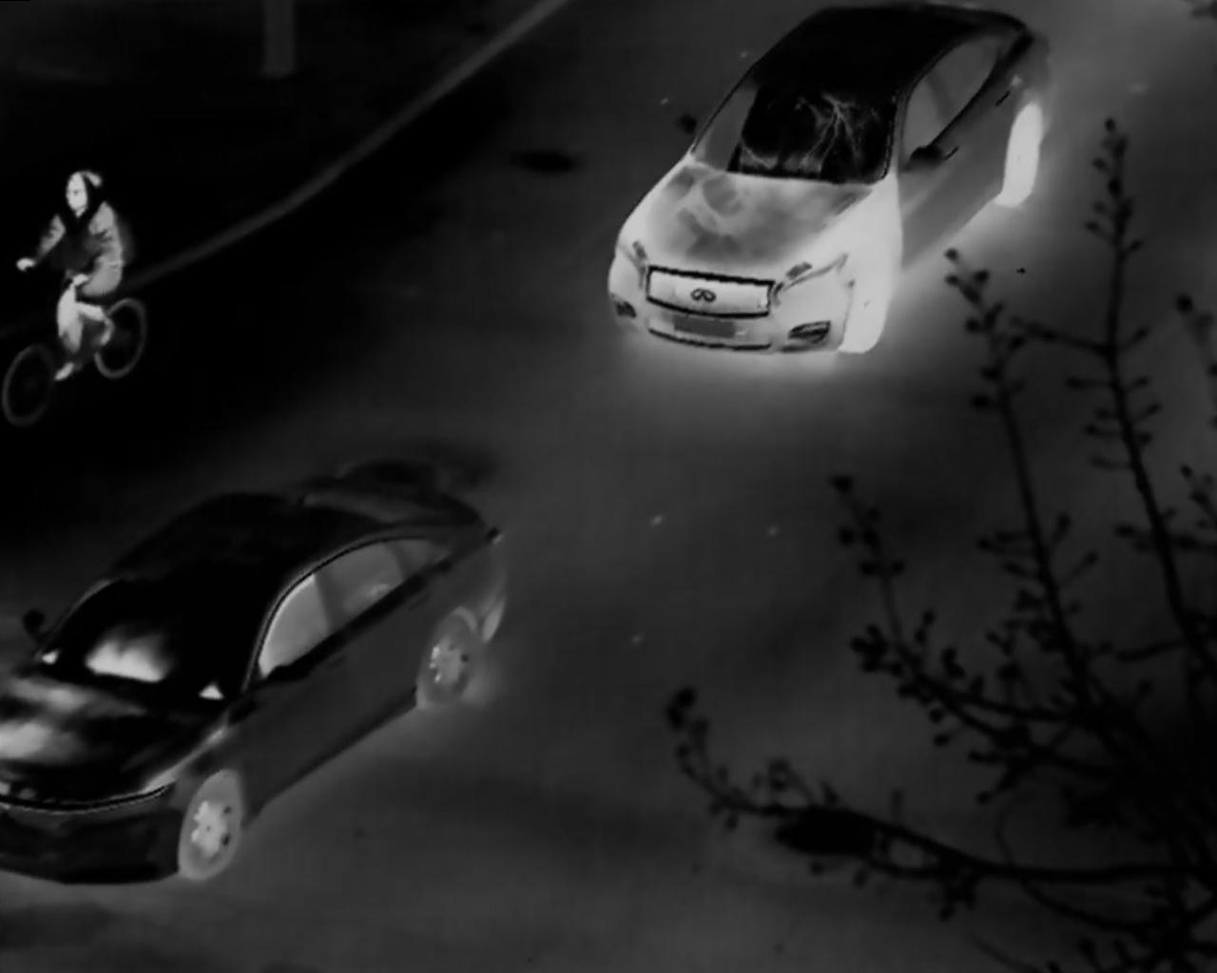person: (17, 171, 126, 381)
